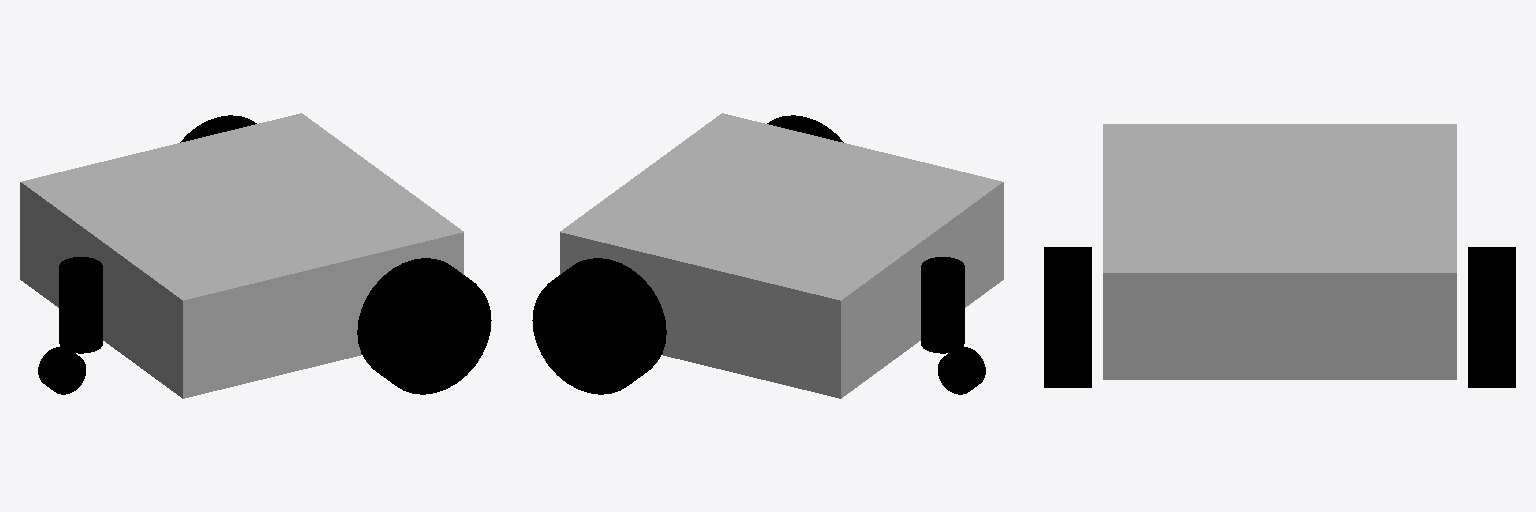
robot.urdf — differential_v02:
<?xml version="1.0"?>
<robot name="differential_v02">

<!--Links-->

<!-- Base Link -->
<link name="base_link">
    <visual>
      <geometry>
        <box size="1.5 1.5 0.5"/>
      </geometry>
      <material name="silver">
        <color rgba="0.75 0.75 0.75 1"/>
      </material>
    </visual>
    <collision>
      <geometry>
        <box size="1.5 1.5 0.5"/>
      </geometry>
    </collision>
    <inertial>
      <mass value="0.45"/>
      <inertia ixx="0.09375" iyy="0.09375" izz="0.16875" ixy="0" ixz="0" iyz="0"/>
    </inertial>
</link>

<!--Right Wheel-->
<link name="right_wheel">
    <visual>
      <geometry>
        <cylinder length="0.2" radius="0.3"/>
      </geometry>
      <origin rpy="1.5708 0 0" xyz="0 0 0"/>
      <material name="black">
        <color rgba="0 0 0 1"/>
      </material>
    </visual>
    <collision>
      <geometry>
        <cylinder length="0.2" radius="0.3"/>
      </geometry>
      <origin rpy="1.5708 0 0" xyz="0 0 0"/>
    </collision>
    <inertial>
      <mass value="0.02"/>
      <inertia ixx="0.000516666666667" iyy="0.000516666666667" izz="0.0009" ixy="0" ixz="0" iyz="0"/>
    </inertial>
</link>

<!--Left Wheel-->
<link name="left_wheel">
    <visual>
      <geometry>
        <cylinder length="0.2" radius="0.3"/>
      </geometry>
      <origin rpy="1.5708 0 0" xyz="0 0 0"/>
      <material name="black">
        <color rgba="0 0 0 1"/>
      </material>
    </visual>
    <collision>
      <geometry>
        <cylinder length="0.2" radius="0.3"/>
      </geometry>
      <origin rpy="1.5708 0 0" xyz="0 0 0"/>
    </collision>
    <inertial>
      <mass value="0.02"/>
      <inertia ixx="0.000516666666667" iyy="0.000516666666667" izz="0.0009" ixy="0" ixz="0" iyz="0"/>
    </inertial>
</link>


<!--Caster-->
<link name="caster">
    <visual>
      <geometry>
        <cylinder length="0.4" radius="0.1"/>
      </geometry>
      <origin rpy="0 0 0" xyz="0 0 0"/>
      <material name="black">
        <color rgba="0 0 0 1"/>
      </material>
    </visual>
    <collision>
      <geometry>
        <cylinder length="0.4" radius="0.1"/>
      </geometry>
    </collision>
    <inertial>
      <mass value="0.01"/>
      <inertia ixx="0.000158333333333" iyy="0.000158333333333" izz="5e-05" ixy="0" ixz="0" iyz="0"/>
    </inertial>
</link>


<!--Caster Wheel-->
<link name="caster_wheel">
    <visual>
      <geometry>
        <cylinder length="0.1" radius="0.1"/>
      </geometry>
      <origin rpy="1.5708 0 0" xyz="0 0 0"/>
      <material name="black">
        <color rgba="0 0 0 1"/>
      </material>
    </visual>
    <collision>
      <geometry>
        <cylinder length="0.1" radius="0.1"/>
      </geometry>
      <origin rpy="1.5708 0 0" xyz="0 0 0"/>
    </collision>
    <inertial>
      <mass value="0.01"/>
      <inertia ixx="3.33333333333e-05" iyy="3.33333333333e-05" izz="5e-05" ixy="0" ixz="0" iyz="0"/>
    </inertial>
</link>


<!--Joints-->

<!-- Right Wheel Joint-->
 <joint name="right_wheel_joint" type="continuous">
    <axis xyz="0 1 0"/>
    <parent link="base_link"/>
    <child link="right_wheel"/>
    <origin rpy="0 0 0" xyz=".45 0.9 -0.1"/>
  </joint>

<!-- Left Wheel Joint-->
 <joint name="left_wheel_joint" type="continuous">
    <axis xyz="0 1 0"/>
    <parent link="base_link"/>
    <child link="left_wheel"/>
    <origin rpy="0 0 0" xyz=".45 -0.9 -0.1"/>
  </joint>


<!-- Caster Joint-->
 <joint name="caster_joint" type="continuous">
    <axis xyz="0 0 1"/>
    <parent link="base_link"/>
    <child link="caster"/>
    <origin rpy="0 0 0" xyz="-0.86 0 -0.05"/>
  </joint>

   <!-- Caster Wheel Joint-->
 <joint name="caster_wheel_joint" type="continuous">
    <axis xyz="0 1 0"/>
    <parent link="caster"/>
    <child link="caster_wheel"/>
    <origin rpy="0 0 0" xyz="-0.1 0 -0.31"/>
  </joint>

<gazebo reference="right_wheel">
  <mu1>100000.0</mu1>
  <mu2>100000.0</mu2>
  <material>Gazebo/Black</material>
</gazebo>

<gazebo reference="left_wheel">
  <mu1>100000.0</mu1>
  <mu2>100000.0</mu2>
  <material>Gazebo/Black</material>
</gazebo>

<gazebo reference="caster_wheel">
  <mu1>100.0</mu1>
  <mu2>100.0</mu2>
  <material>Gazebo/Black</material>
</gazebo>

  </robot>

--- What the picture shows (computed from the rendered views, not written in the file) ---
The picture shows the robot from 3 angles, left to right: view 1: azimuth 30°, elevation 25°; view 2: azimuth 150°, elevation 25°; view 3: azimuth 270°, elevation 25°; orthographic projection.
Robot: differential_v02 — 5 links, 4 joints (4 continuous); root link base_link; default pose: every joint at zero.
Links seen in each view (by area): view 1: base_link, left_wheel, caster, caster_wheel, right_wheel; view 2: base_link, right_wheel, caster, caster_wheel, left_wheel; view 3: base_link, right_wheel, left_wheel.
Boxes of the visible links, bbox=[...] form: base_link: bbox=[20, 113, 463, 398]; left_wheel: bbox=[357, 258, 491, 394]; caster: bbox=[59, 257, 102, 353]; caster_wheel: bbox=[38, 347, 85, 394]; right_wheel: bbox=[180, 115, 256, 142]; base_link: bbox=[560, 113, 1003, 398]; right_wheel: bbox=[532, 258, 666, 394]; caster: bbox=[921, 257, 964, 353]; caster_wheel: bbox=[938, 347, 985, 394]; left_wheel: bbox=[767, 115, 843, 142]; base_link: bbox=[1103, 124, 1456, 379]; right_wheel: bbox=[1468, 247, 1515, 387]; left_wheel: bbox=[1044, 247, 1091, 387].
Size in the robot's own frame: 1.81 by 2 by 0.71 metres.
Geometry: primitives only (box / cylinder / sphere), no mesh files.